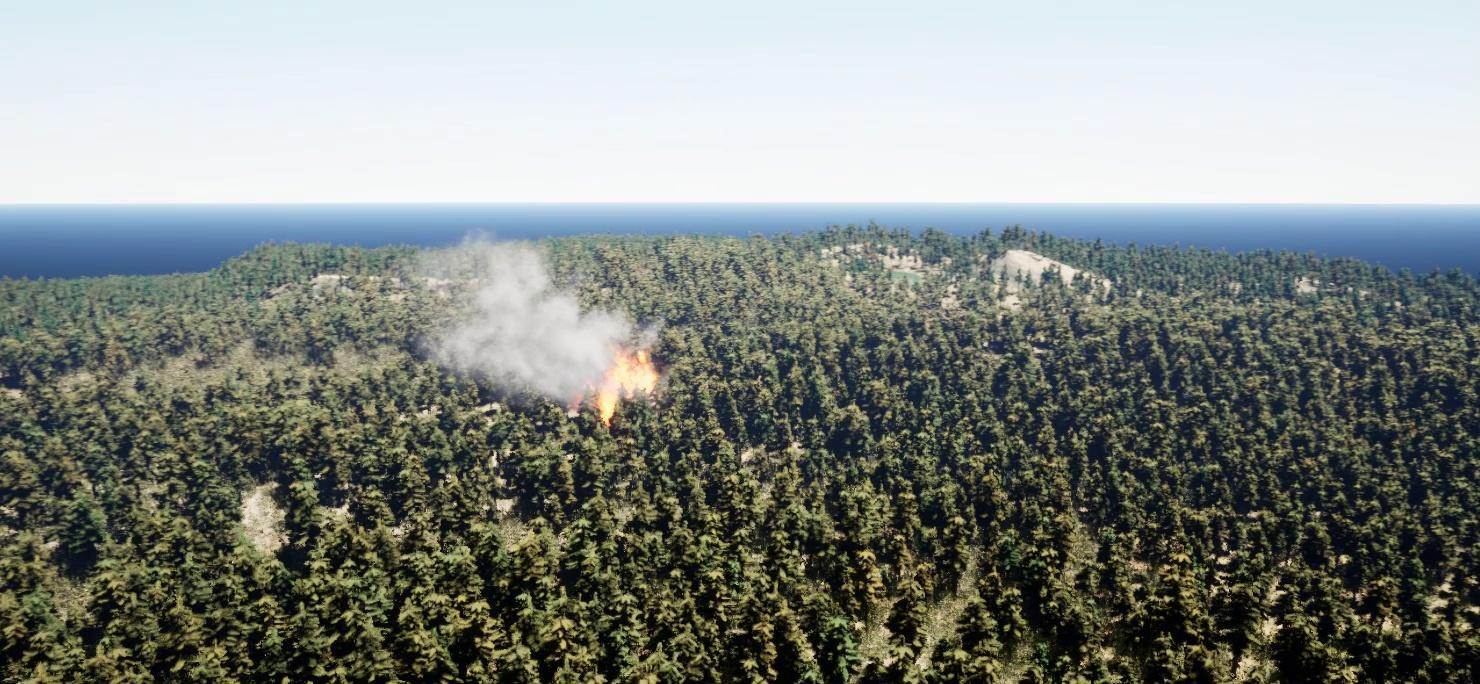fire: (595, 347, 659, 422)
smoke: (411, 234, 641, 417)
